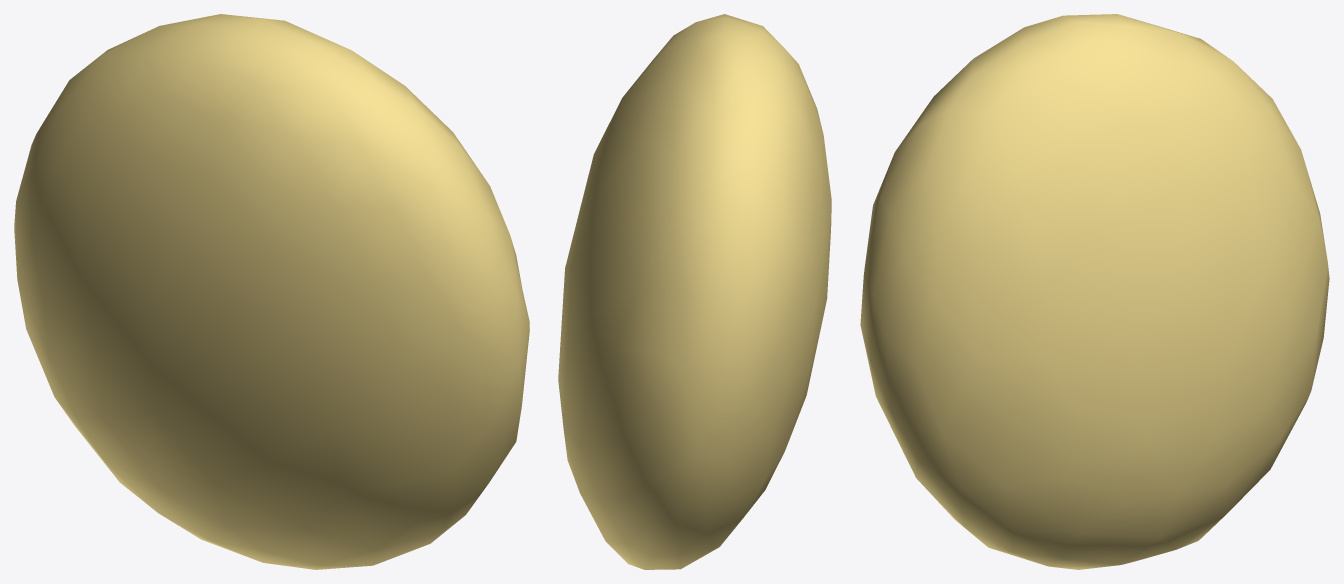
Rendered from fma54506_mm3509m.glb.
3 views of the same model, side by side, from view 1: azimuth 30°, elevation 25°; view 2: azimuth 150°, elevation 25°; view 3: azimuth 270°, elevation 25° (orthographic). The views are drawn at different scales.
Parts seen in each view (by area): view 1: FMA54506_MM3509M; view 2: FMA54506_MM3509M; view 3: FMA54506_MM3509M.
Boxes of the visible parts, box(x1,y1,x2,y2) form: FMA54506_MM3509M: box(14, 14, 529, 569); FMA54506_MM3509M: box(558, 14, 831, 569); FMA54506_MM3509M: box(860, 14, 1329, 569).
Size of the model in its own units: 0.00152 by 0.00244 by 0.00201.
